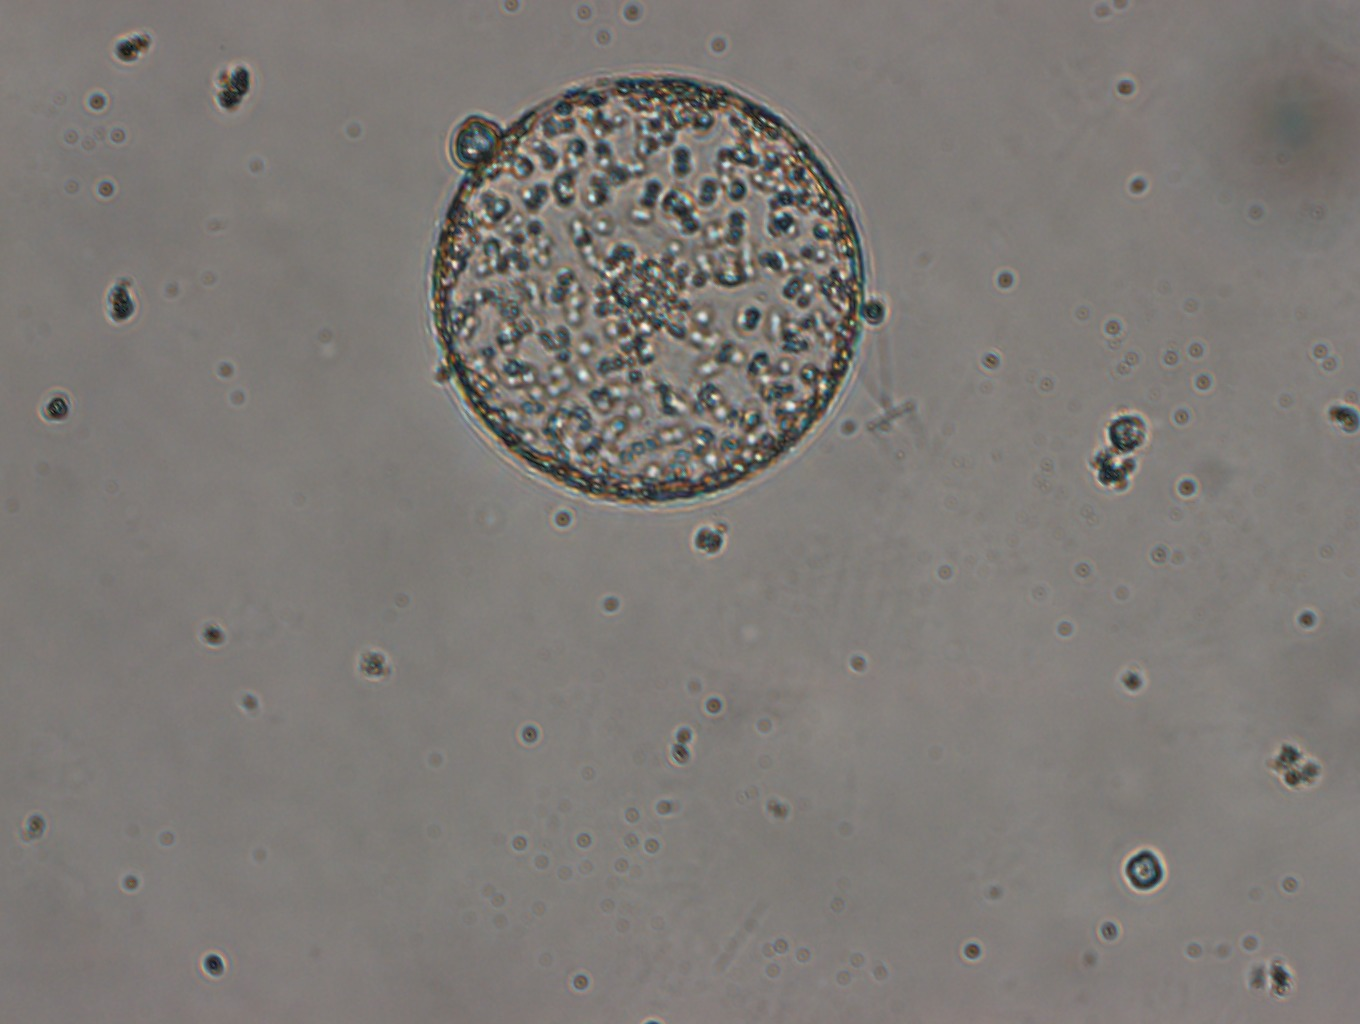coscinodiscus: (427, 73, 876, 512)
